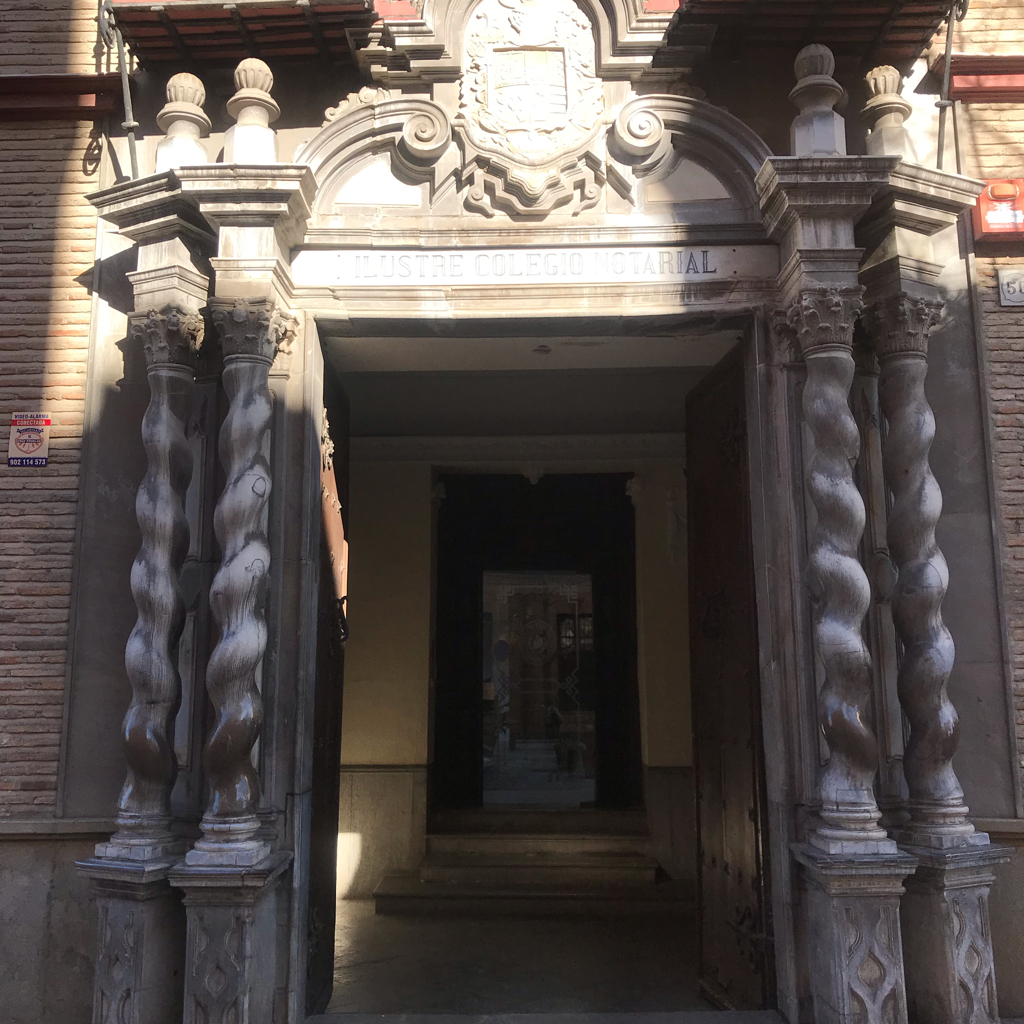columna-salomonica: (877, 334, 981, 829), (788, 324, 892, 816), (196, 343, 289, 814), (114, 365, 206, 813)
fronton-partido: (263, 80, 774, 225)
vano-adintelado: (290, 262, 805, 1022)
